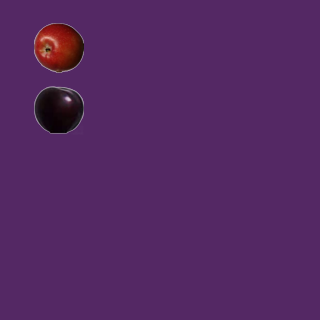Apple Braeburn: (33, 22, 83, 72)
Cherry Wax Black: (33, 84, 83, 134)
